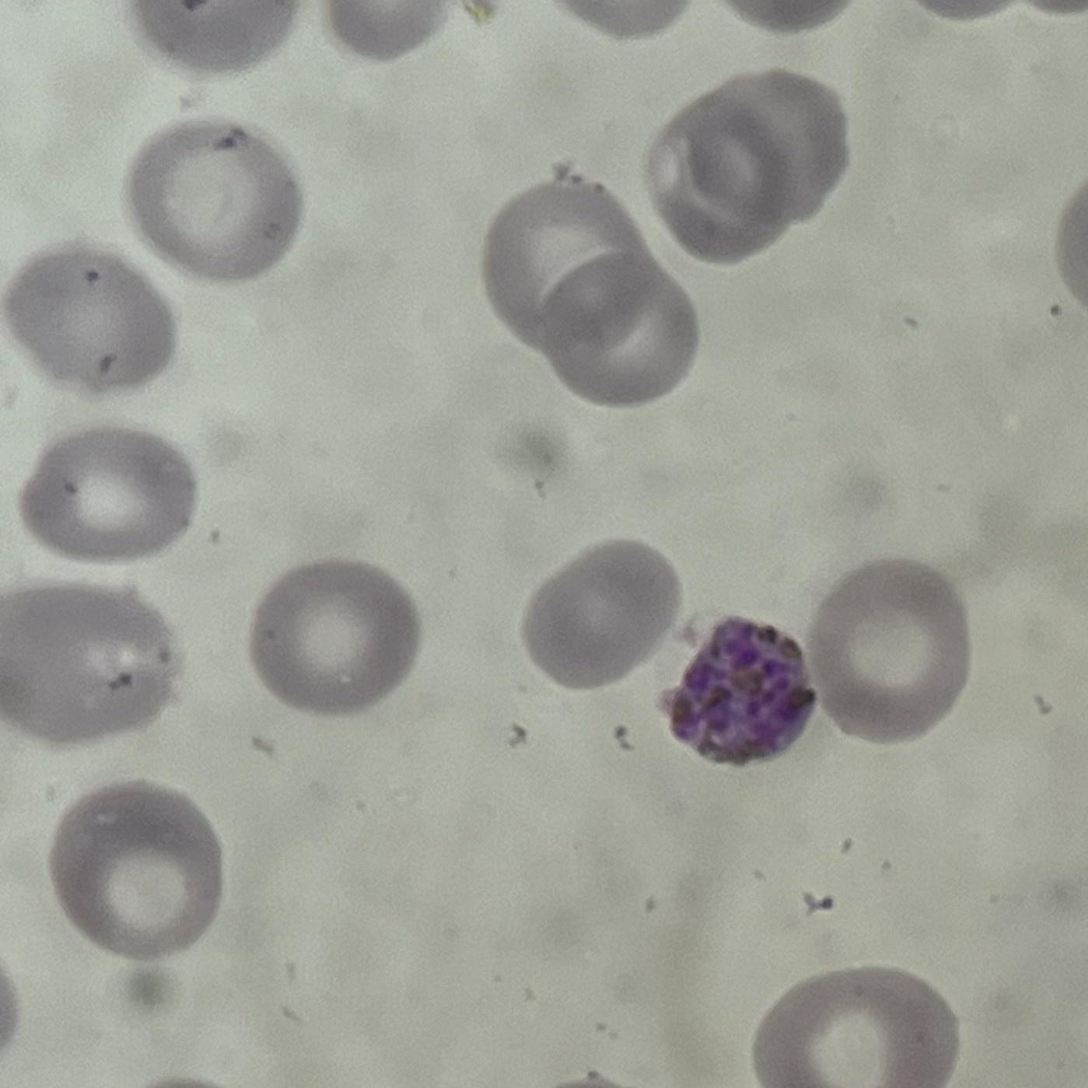Infected: (669, 617, 815, 772)
Uninfected: (51, 782, 218, 958), (815, 560, 966, 751), (249, 556, 423, 711), (126, 125, 296, 280), (0, 586, 171, 739), (533, 247, 694, 406), (682, 70, 845, 227), (488, 185, 641, 350), (754, 967, 957, 1088), (2, 253, 176, 392), (17, 432, 196, 563), (525, 543, 678, 683)
